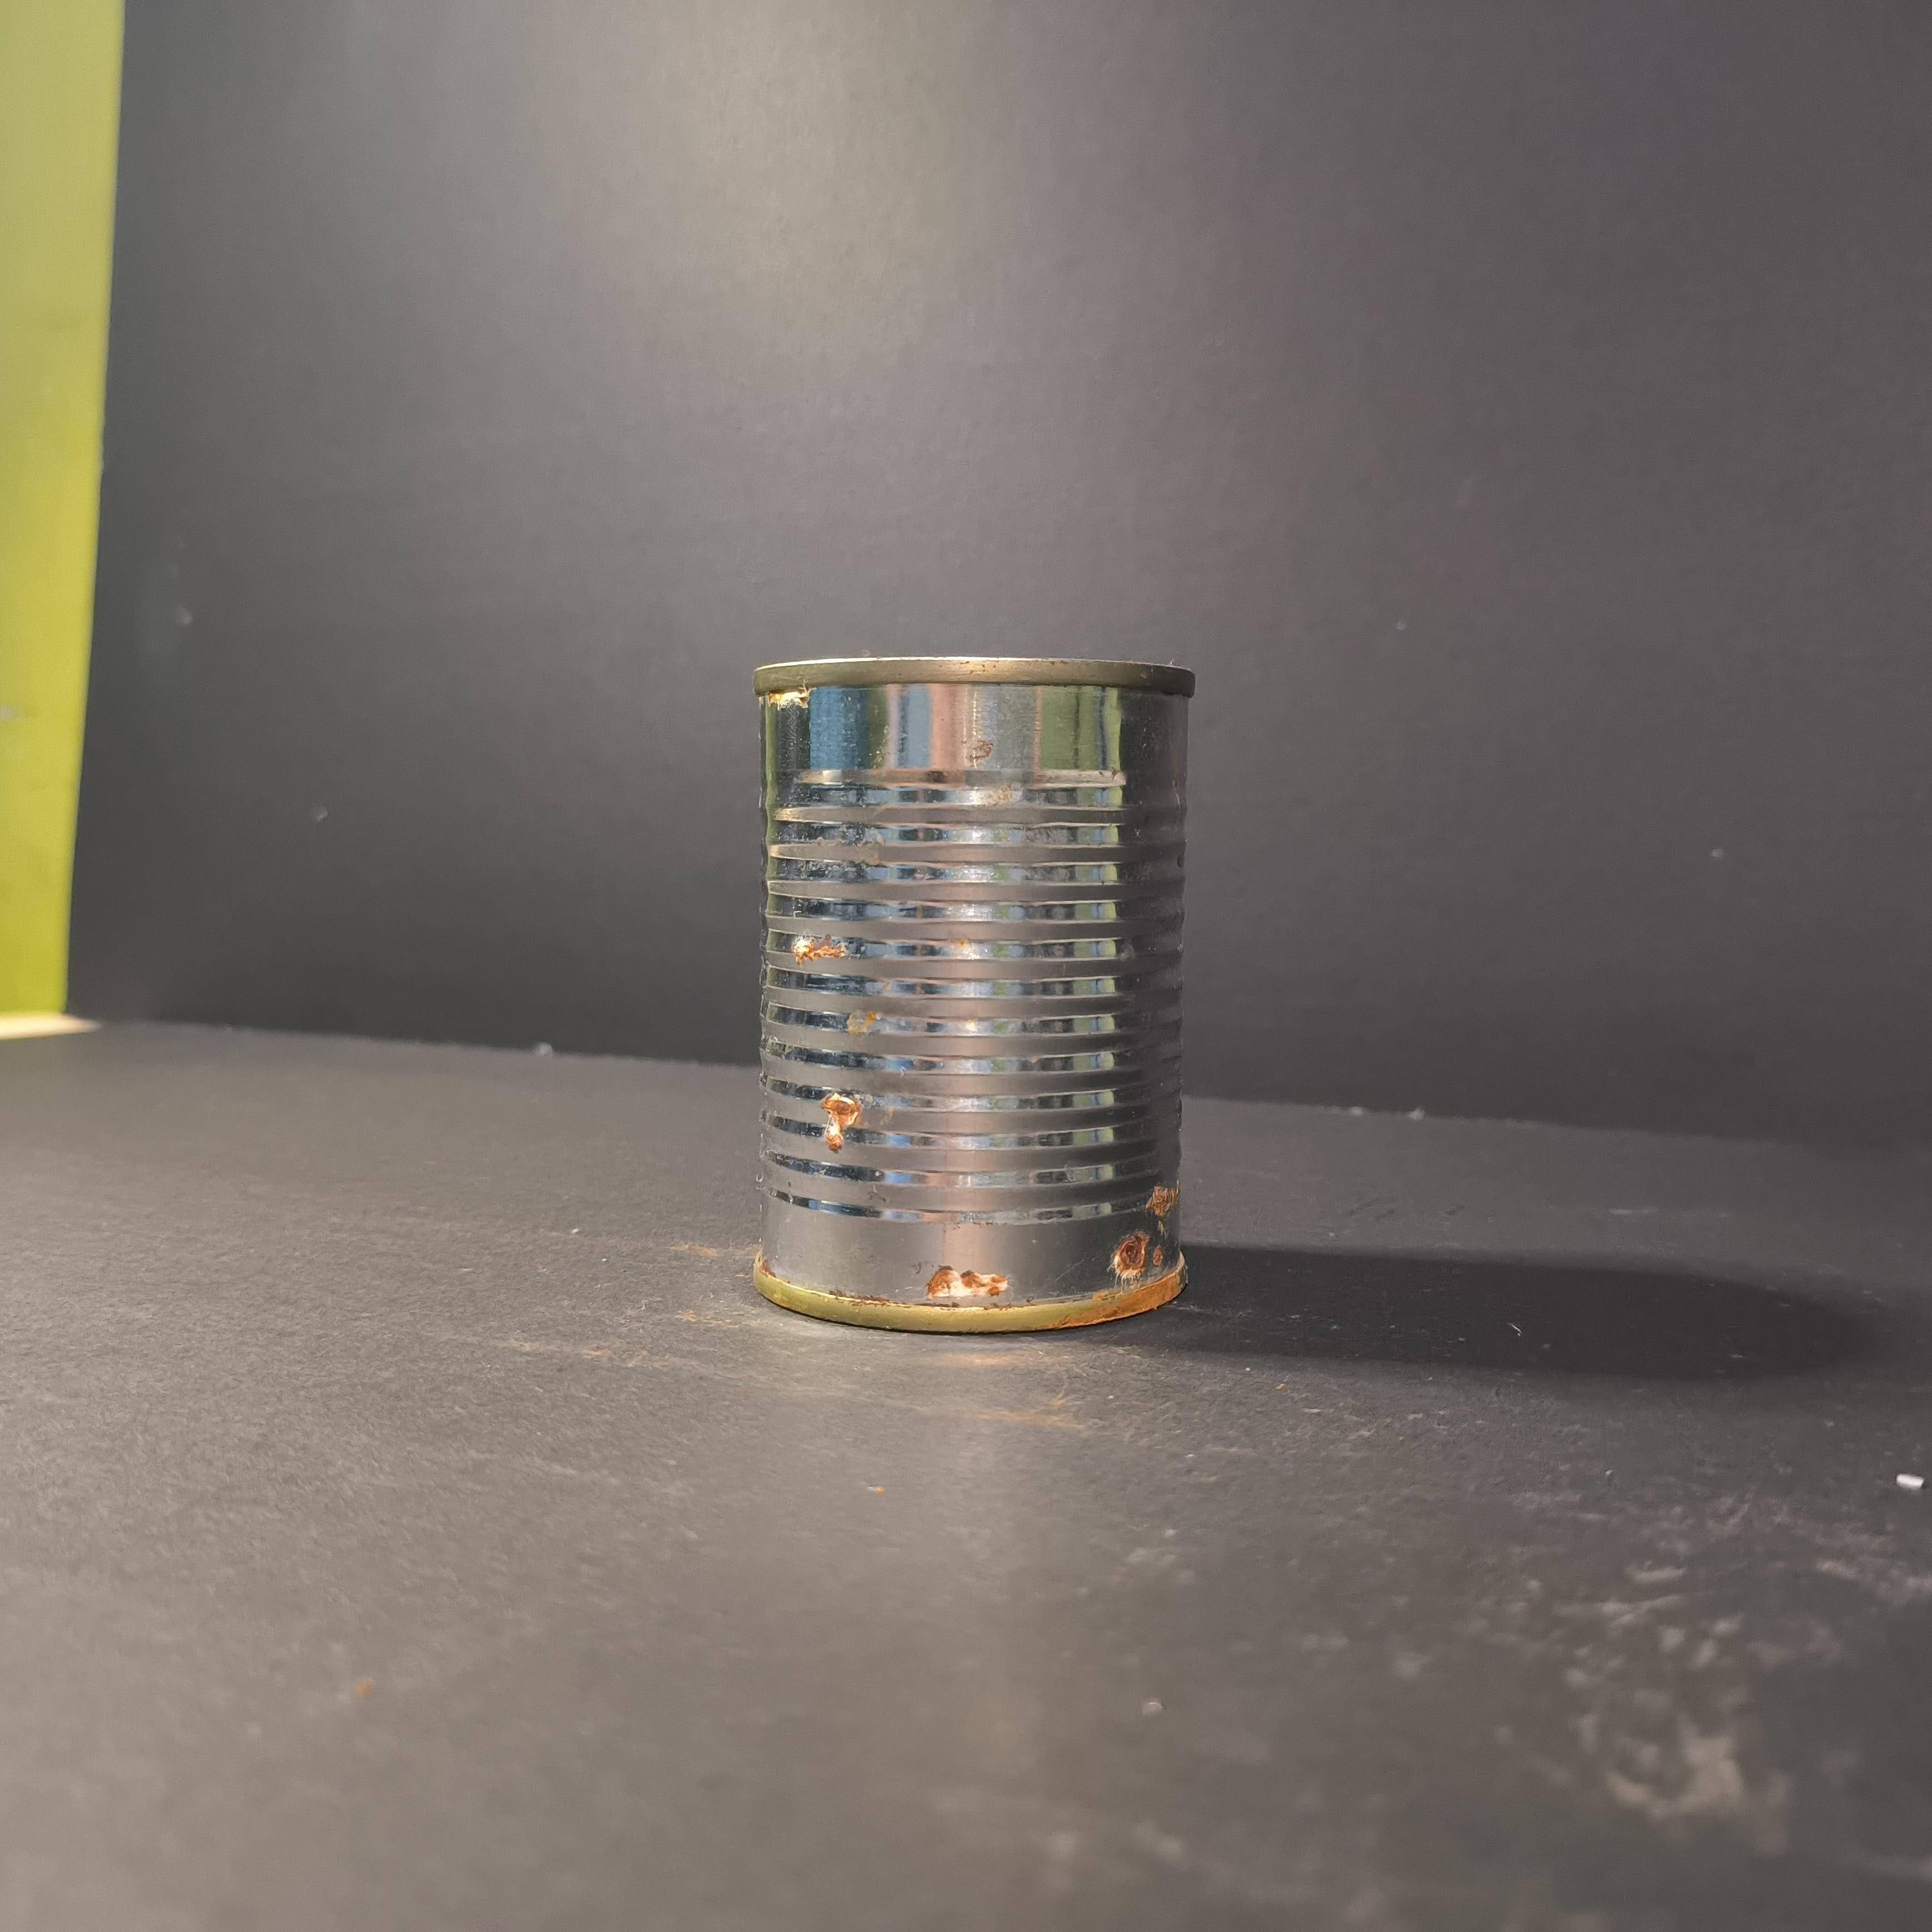Rusted: (738, 635, 1228, 1350)
